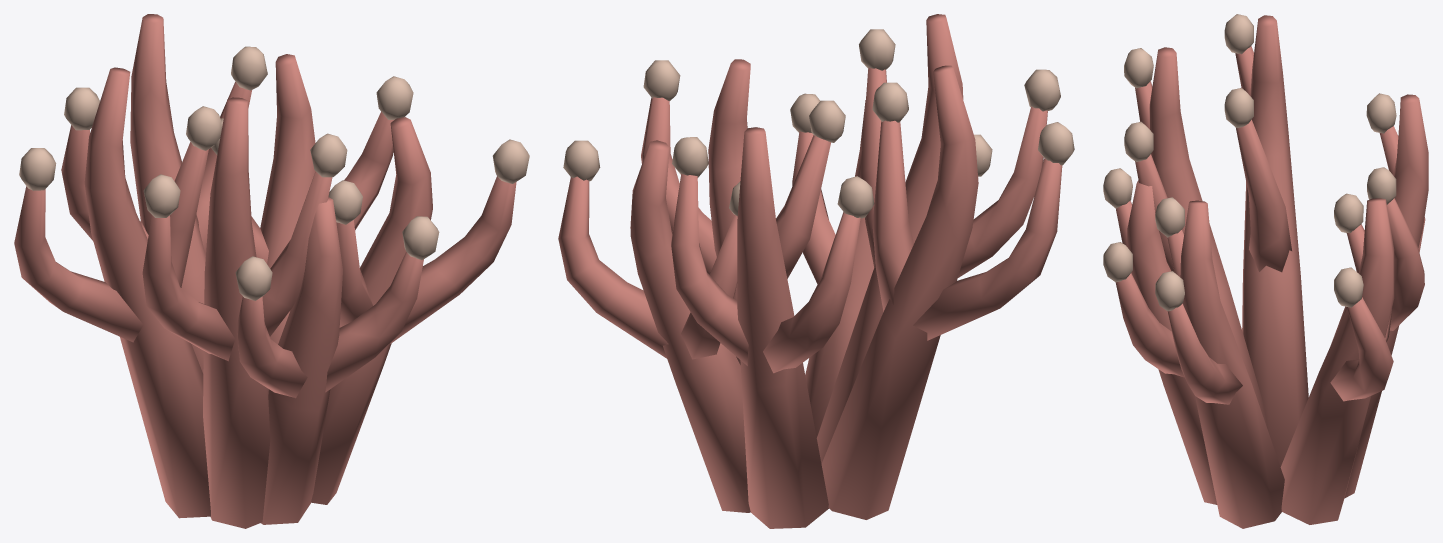
File: reef_coral_0.glb
3 renders of one model, left to right at view 1: azimuth 30°, elevation 25°; view 2: azimuth 150°, elevation 25°; view 3: azimuth 270°, elevation 25°, orthographic. The views are drawn at different scales.
Visible parts, largest first — view 1: reef_coral_0_painted_mesh; view 2: reef_coral_0_painted_mesh; view 3: reef_coral_0_painted_mesh.
Part boxes in pixels (x1=…): reef_coral_0_painted_mesh: x1=14, y1=14, x2=529, y2=528; reef_coral_0_painted_mesh: x1=558, y1=14, x2=1074, y2=528; reef_coral_0_painted_mesh: x1=1103, y1=14, x2=1428, y2=528.
Size of the model in its own units: 1.4 by 1.33 by 0.9319.
